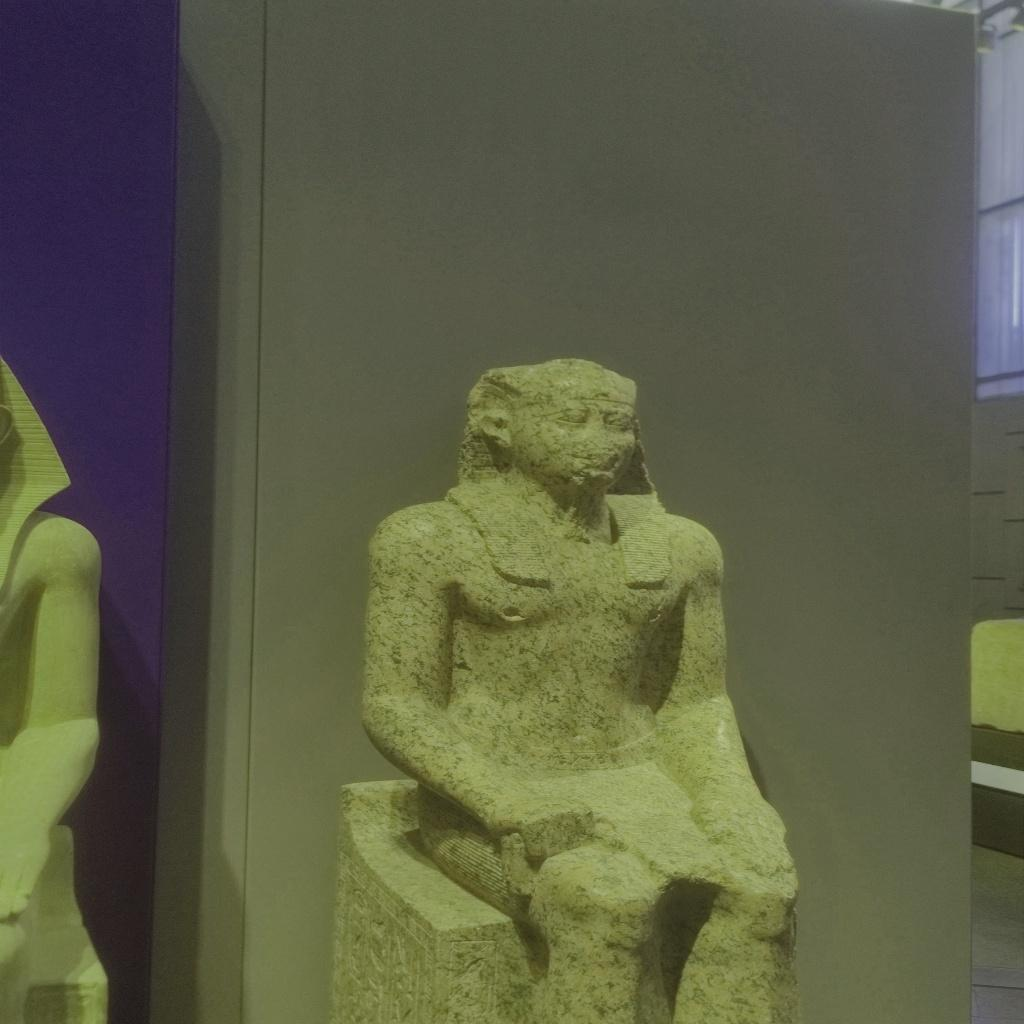Statue of Amenmhat I: (355, 354, 805, 1022)
